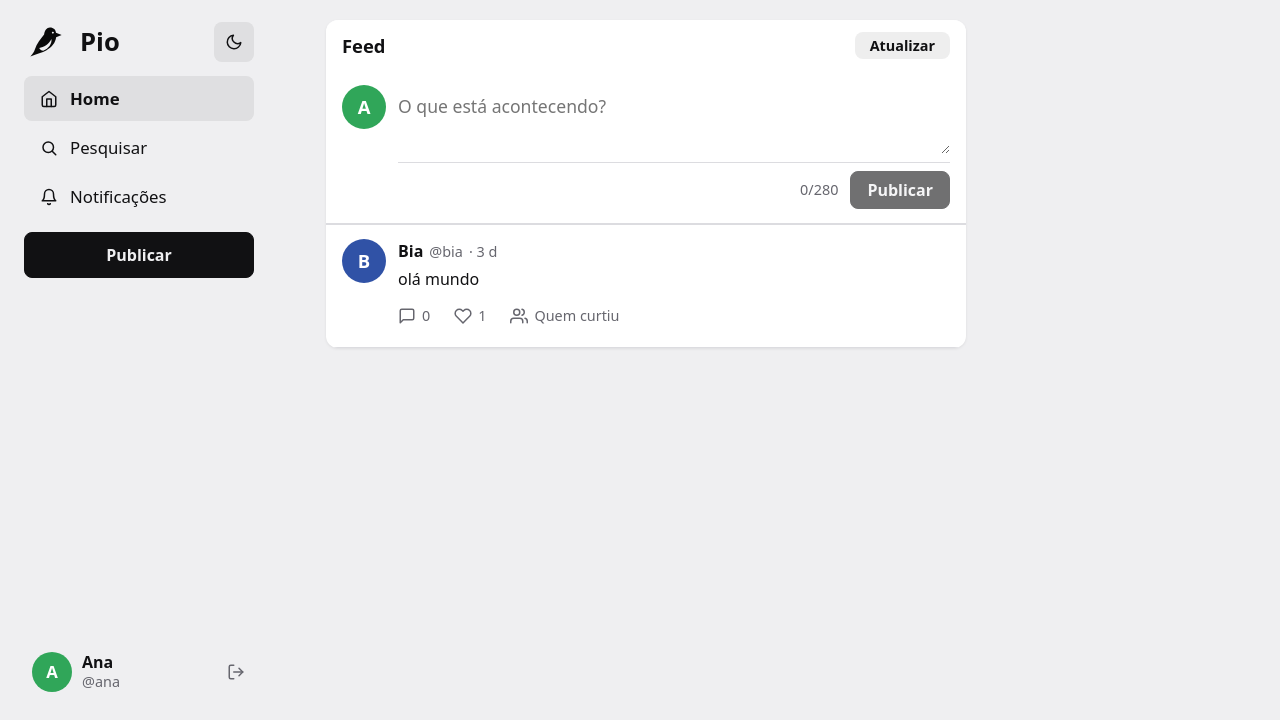
Test: feed › "Quem curtiu" lista os usuários que curtiram
The width and height of the screenshot is (1280, 720).
Click the button "Quem curtiu": [565, 316] box [500,299,630,333]
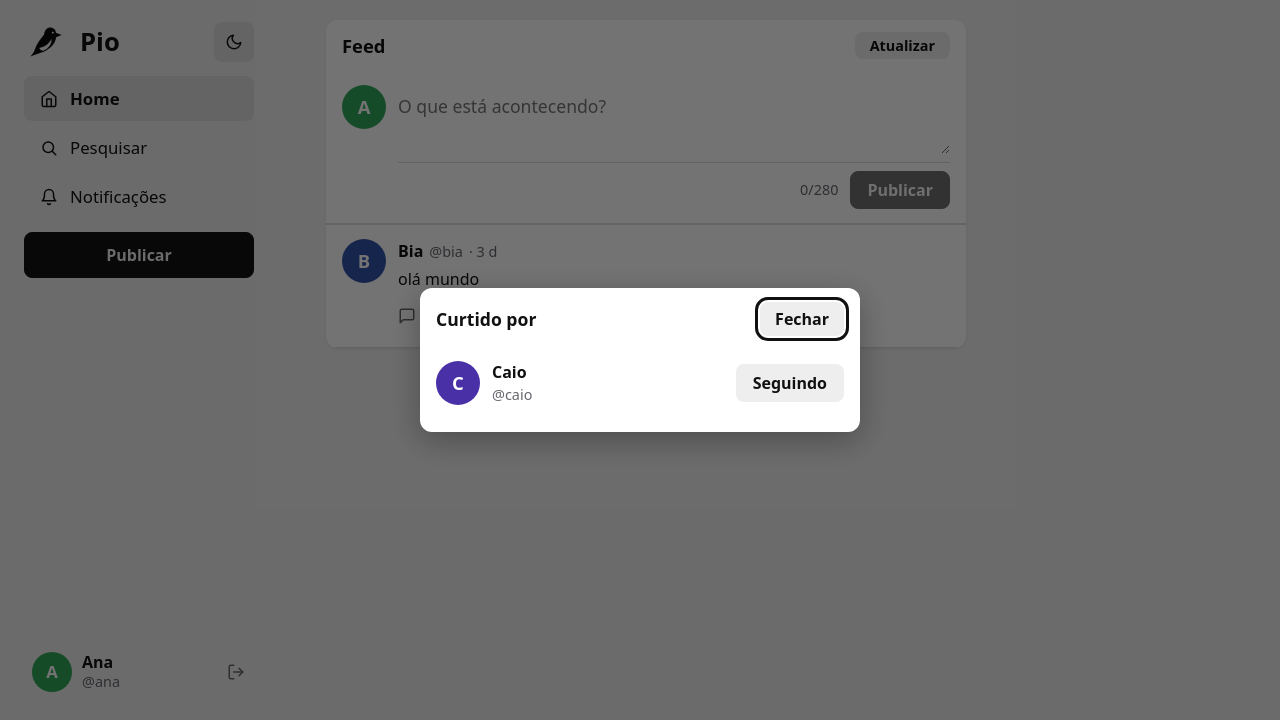
expect the text "Caio" is shown: met, box [492,361,527,383]
expect the text "@caio" is shown: met, box [492,385,532,404]
expect the button "Seguindo" is shown: met, box [736,364,844,402]
